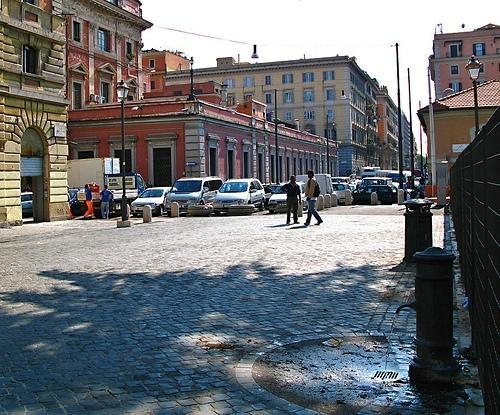car: (163, 178, 224, 216), (213, 178, 266, 214), (130, 187, 172, 217), (267, 183, 308, 213), (351, 184, 397, 206), (356, 176, 394, 188), (332, 182, 352, 202), (362, 166, 376, 178), (332, 177, 349, 183)
truck: (66, 156, 148, 216), (361, 166, 380, 178)
